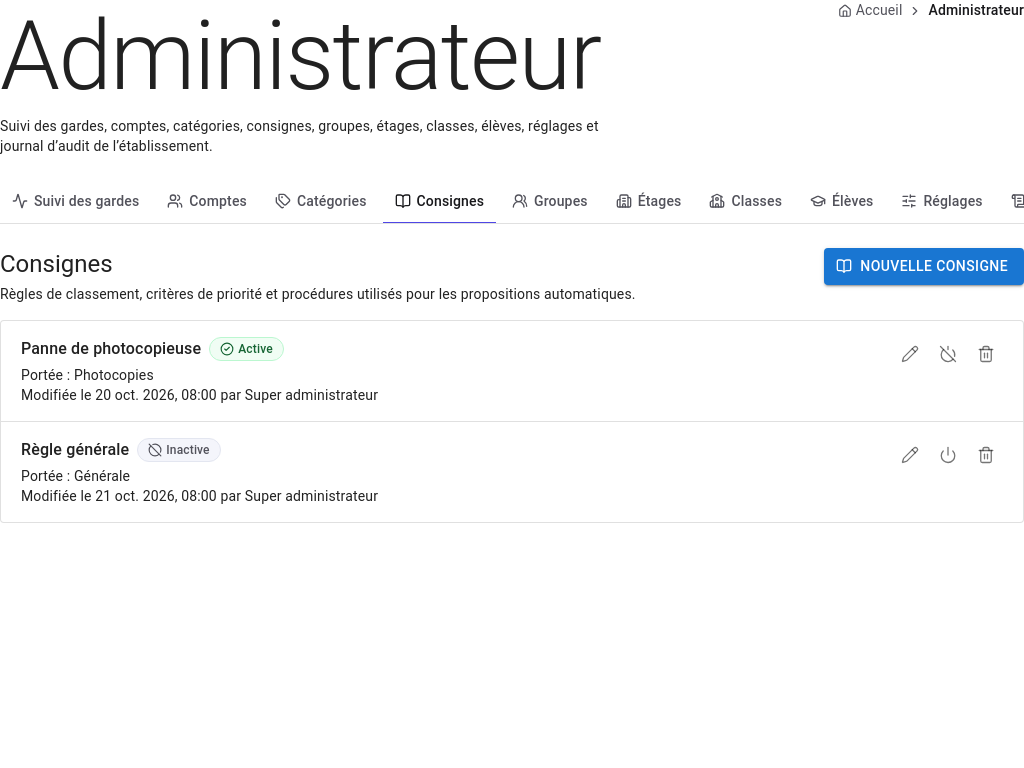
Consignes › valide le formulaire puis crée une consigne générale
The width and height of the screenshot is (1024, 768).
Click the button "Nouvelle consigne": (924, 266) [824, 248, 1023, 285]
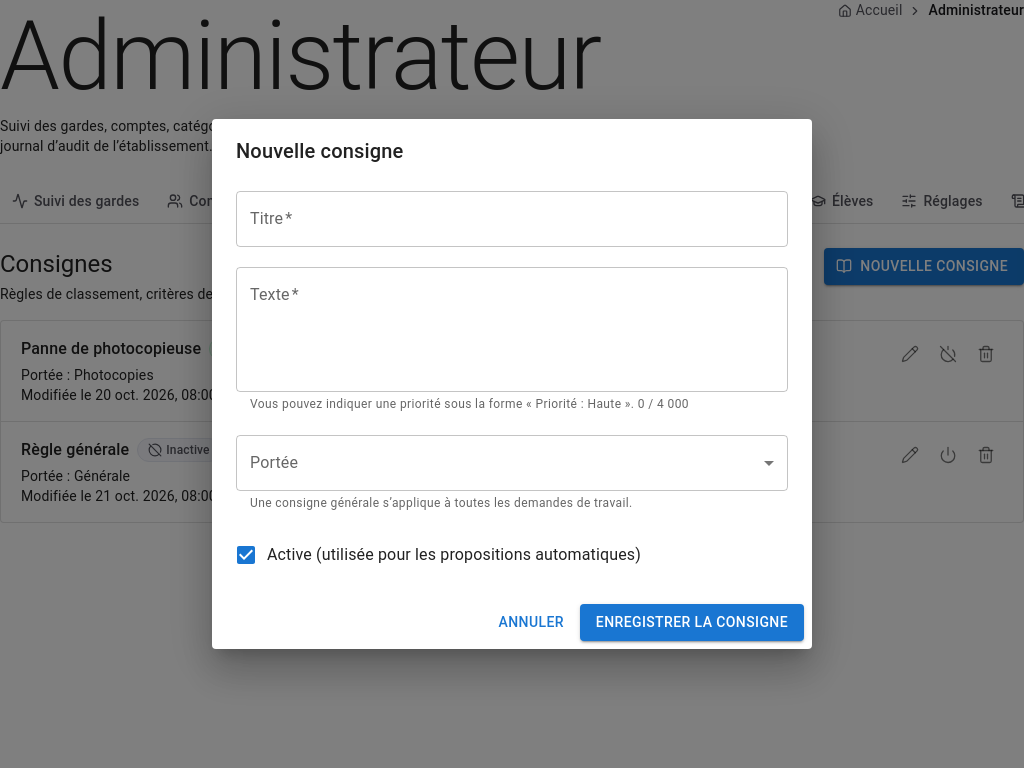
Check: the text "Priorité : Haute" is shown, box [250, 397, 689, 411]
Click the button "Enregistrer la consigne": (692, 622) [580, 604, 804, 641]
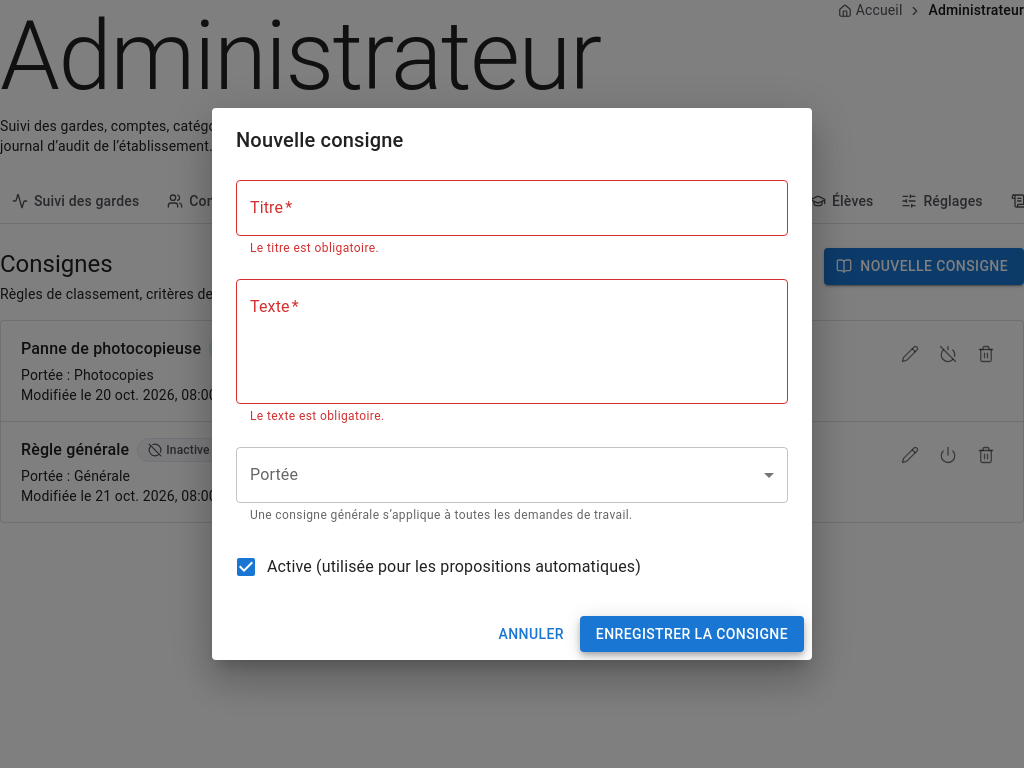
Check: the text "Le titre est obligatoire." is shown, box [250, 241, 379, 255]
Check: the text "Le texte est obligatoire." is shown, box [250, 409, 384, 423]
In the field labelled "Titre *": (512, 208) [236, 180, 788, 236], type "  Salle informatique  "
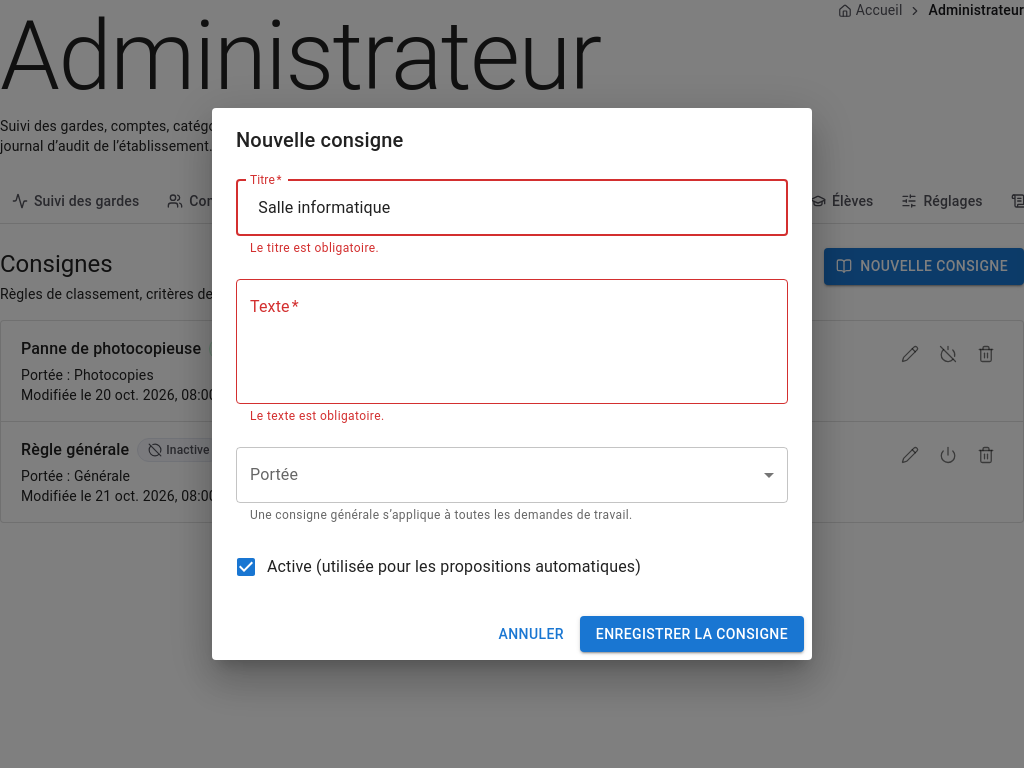
In the text box labelled "Texte *": (512, 341) [250, 295, 774, 387], type "Indiquer le numéro du poste."
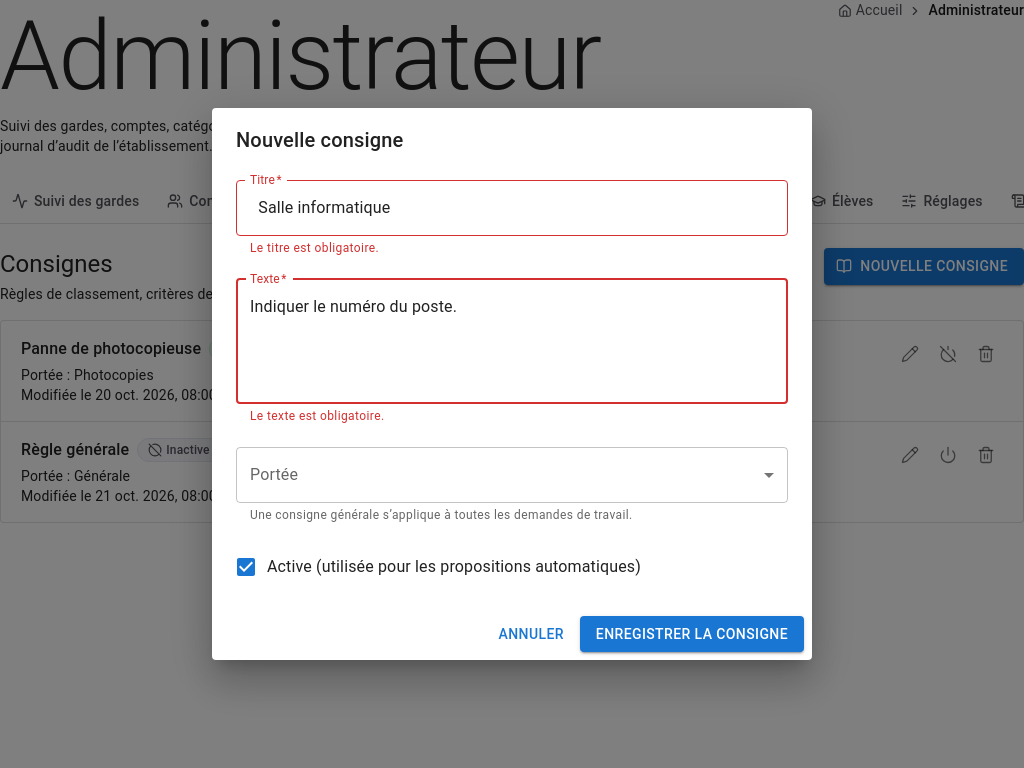
Click the button "Enregistrer la consigne": (692, 634) [580, 616, 804, 652]
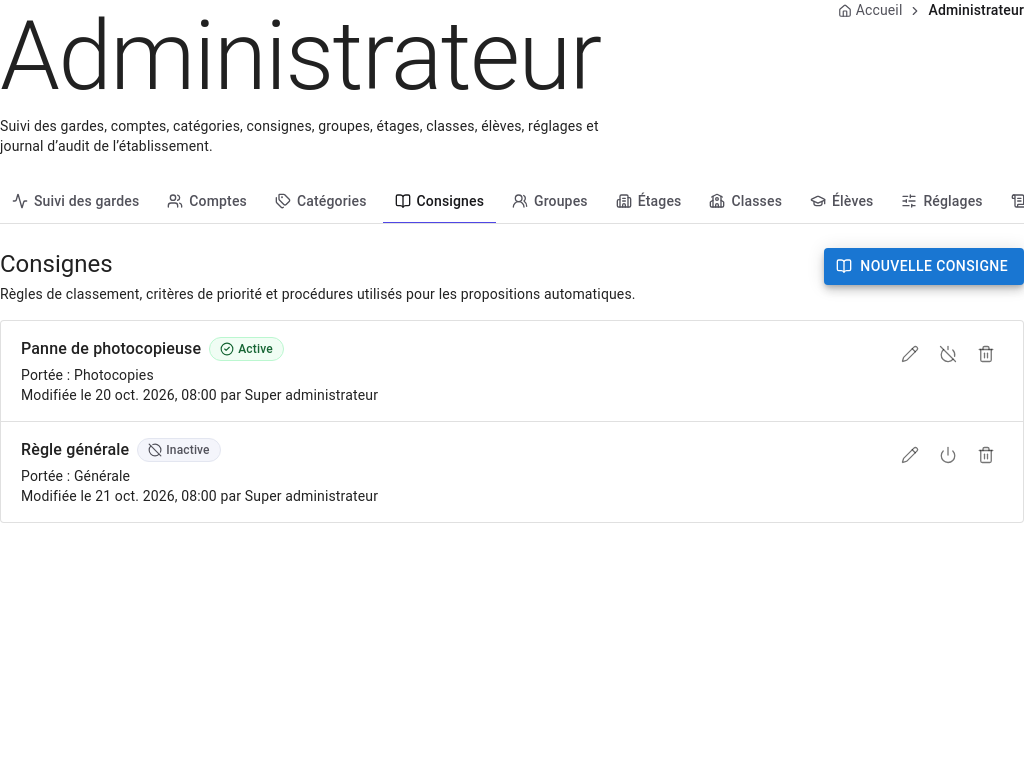
Check: the dialog is gone
